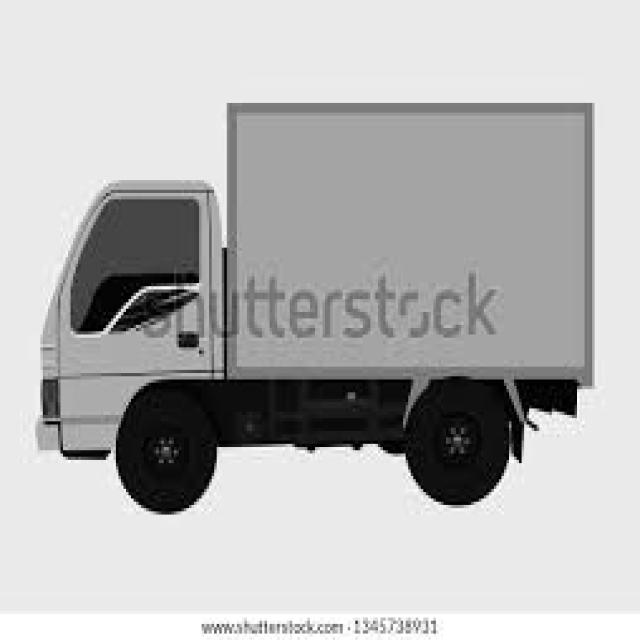truck: (30, 161, 269, 515)
